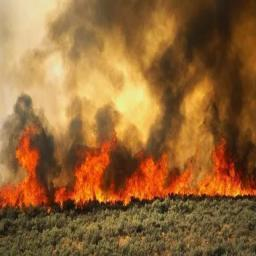Heavy smoke: (30, 2, 255, 134)
Large fire: (2, 115, 254, 211)
